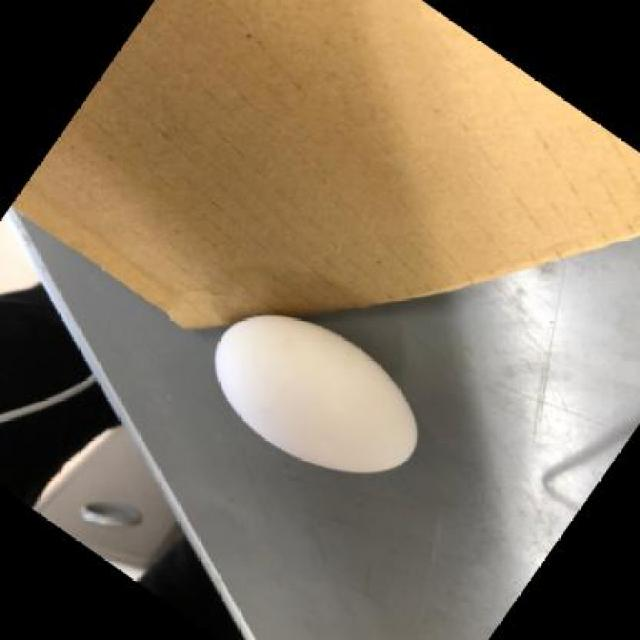egg: (210, 309, 428, 477)
